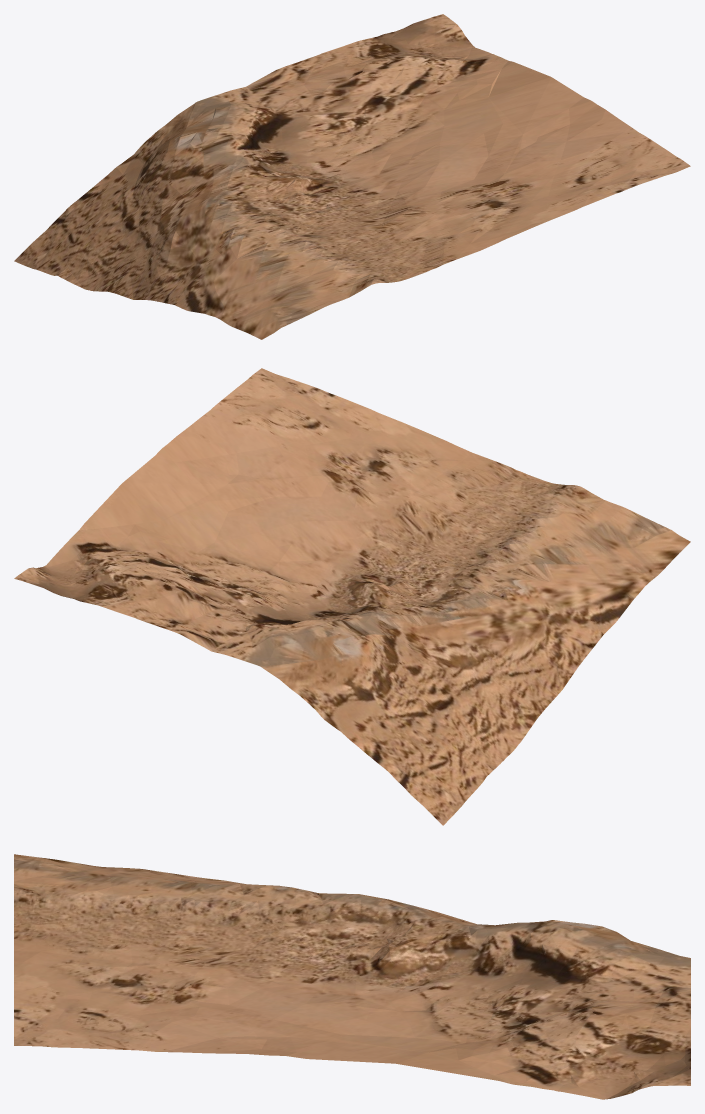
3 views of the same model, one above another, from view 1: azimuth 30°, elevation 25°; view 2: azimuth 150°, elevation 25°; view 3: azimuth 270°, elevation 25° (orthographic). The views are drawn at different scales.
Bounding box in the file's own units: 2.09 × 0.7982 × 2.09.
Materials: 3 (3 with a texture image).
